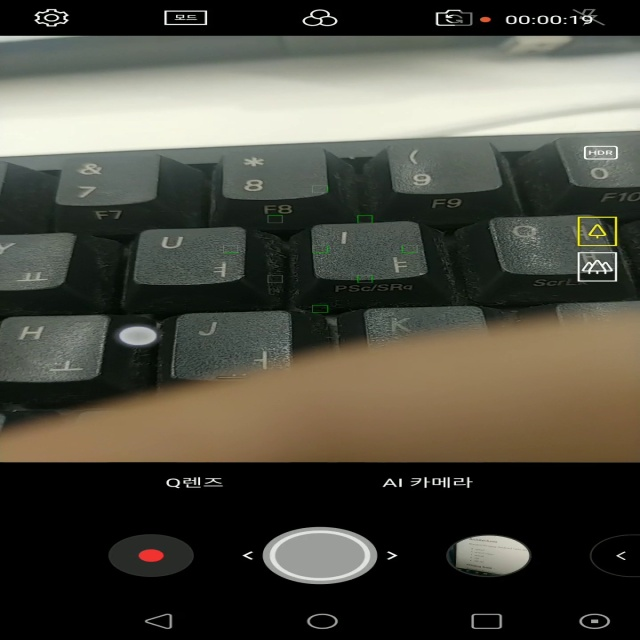Cursor: (116, 325, 160, 348)
